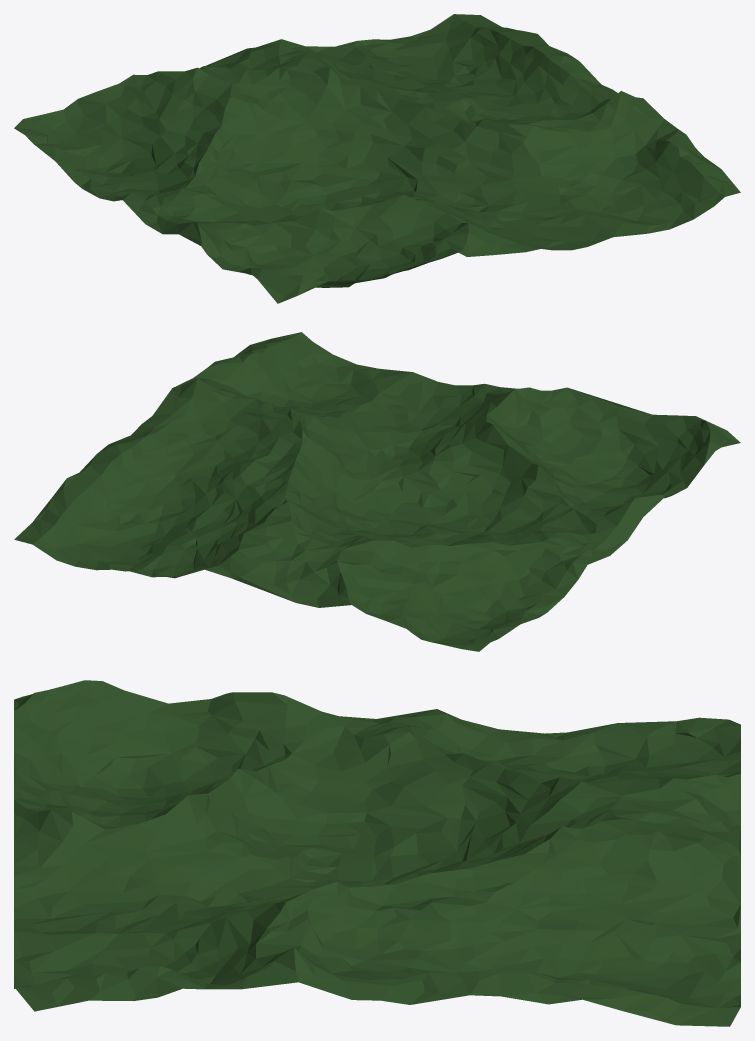
Rendered from SM_landscape_23.fbx.
3 views of the same model, one above another, from view 1: azimuth 30°, elevation 25°; view 2: azimuth 150°, elevation 25°; view 3: azimuth 270°, elevation 25° (orthographic). The views are drawn at different scales.
Visible parts, largest first — view 1: landscape_23; view 2: landscape_23; view 3: landscape_23.
Boxes of the visible parts, x1,y1,x2,y2 form: landscape_23: [14, 14, 740, 303]; landscape_23: [14, 332, 740, 651]; landscape_23: [14, 680, 740, 1026].
Size of the model in its own units: 2224 by 286 by 2224.
